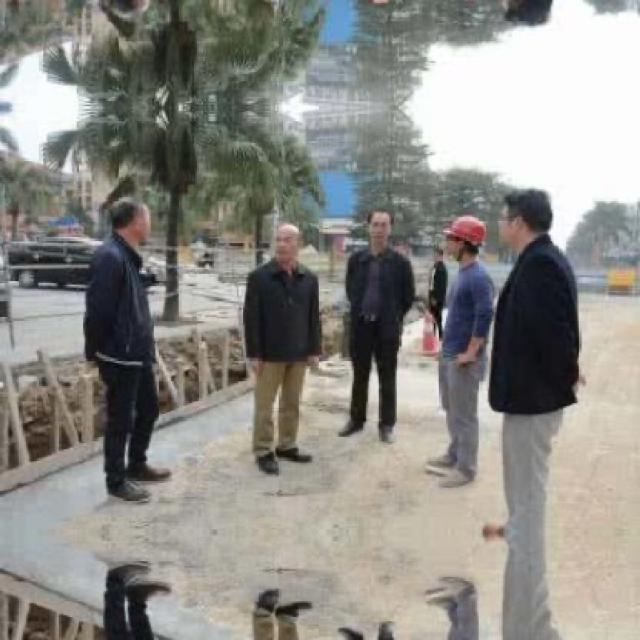helmet: (444, 212, 488, 258)
